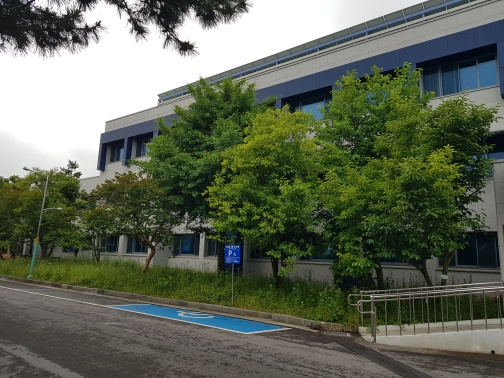College of Social Sciences: (85, 16, 495, 316)
